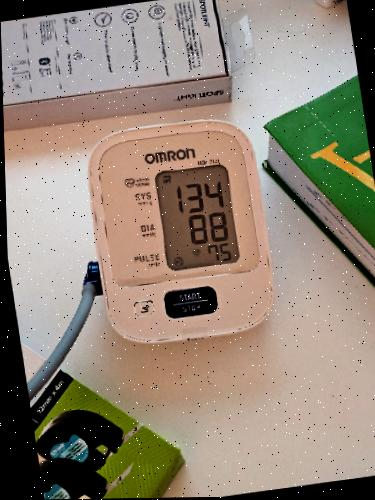bpm: (154, 162, 240, 271)
